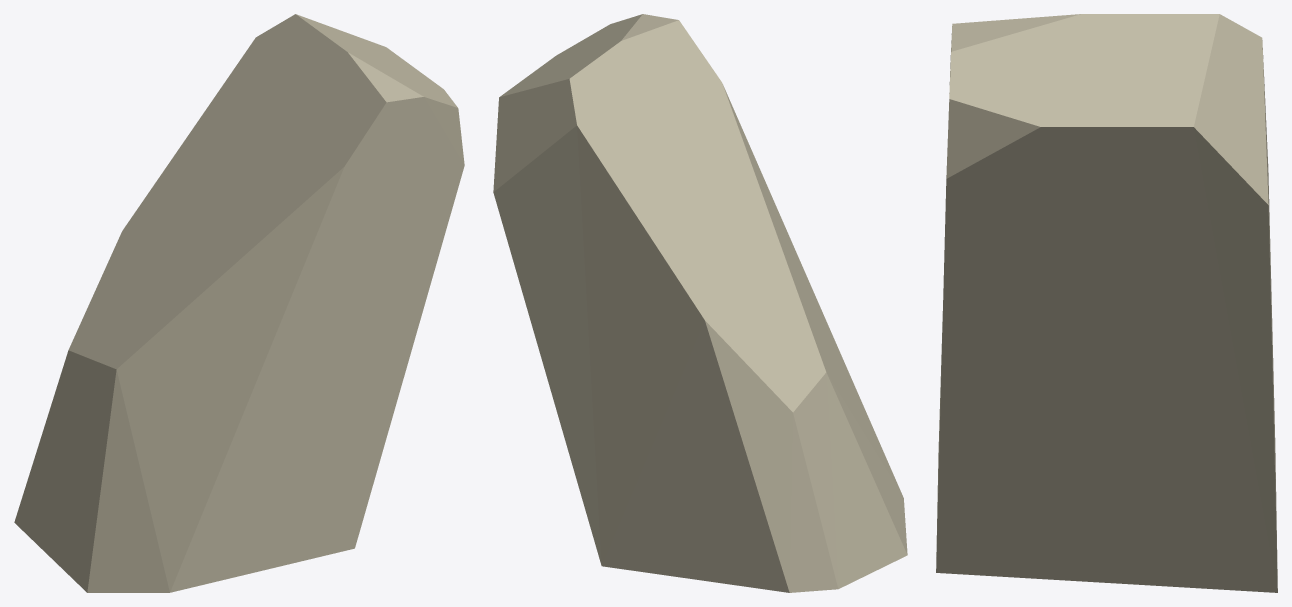
Rendered from Rock_Square_l_07.fbx.
The picture shows the model from 3 angles, left to right: view 1: azimuth 30°, elevation 25°; view 2: azimuth 150°, elevation 25°; view 3: azimuth 270°, elevation 25°; orthographic projection. The views are drawn at different scales.
Visible parts, largest first — view 1: Rock_Square_l_07; view 2: Rock_Square_l_07; view 3: Rock_Square_l_07.
Part boxes in pixels (left/top/right/bottom): Rock_Square_l_07: left=14, top=14, right=464, bottom=592; Rock_Square_l_07: left=493, top=14, right=907, bottom=592; Rock_Square_l_07: left=936, top=14, right=1277, bottom=592.
Size of the model in its own units: 2.52 by 3.12 by 1.58.
